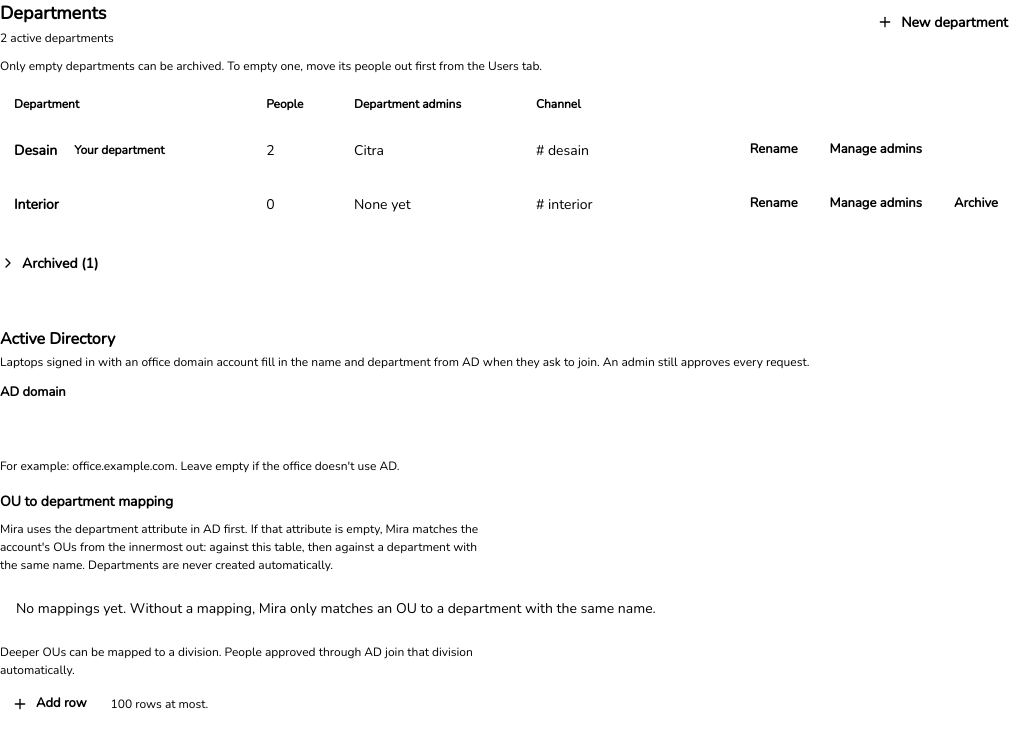
Test: Departemen dalam bahasa Inggris › menulis tabel, tombol, dan dialog dalam bahasa Inggris
The image size is (1024, 737).
Expected: the table named "Active departments" is shown, [0, 85, 1023, 231]
Expected: the heading "Departments" is shown, [0, 0, 114, 27]
Click the button with aria-label "Manage admins for Desain": (876, 150) [818, 133, 934, 167]
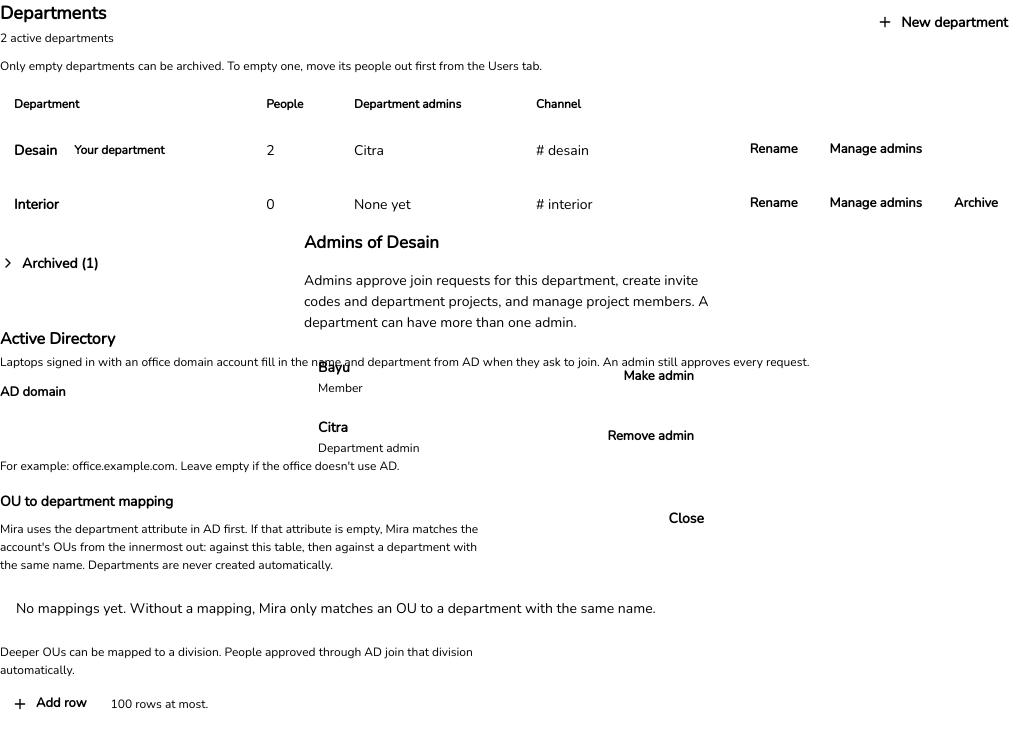
Result: the dialog "Admins of Desain" is shown at [282, 210, 742, 558]
Result: the button with aria-label "Make admin, Bayu" is shown at [611, 359, 706, 393]
Result: the button with aria-label "Remove admin, Citra" is shown at [595, 419, 706, 453]
